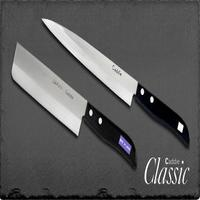knife: (11, 14, 186, 166)
